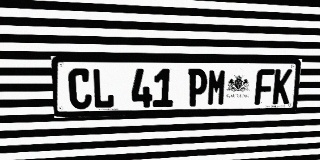1: (153, 69, 174, 107)
4: (131, 69, 152, 108)
C: (68, 68, 92, 109)
F: (254, 69, 275, 105)
K: (272, 69, 292, 104)
L: (92, 68, 114, 109)
M: (207, 69, 227, 106)
P: (187, 69, 208, 106)
